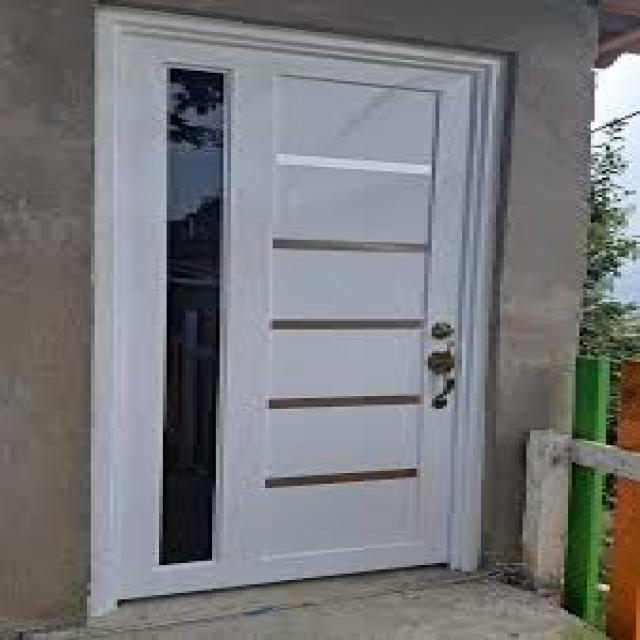door: (91, 8, 511, 606)
